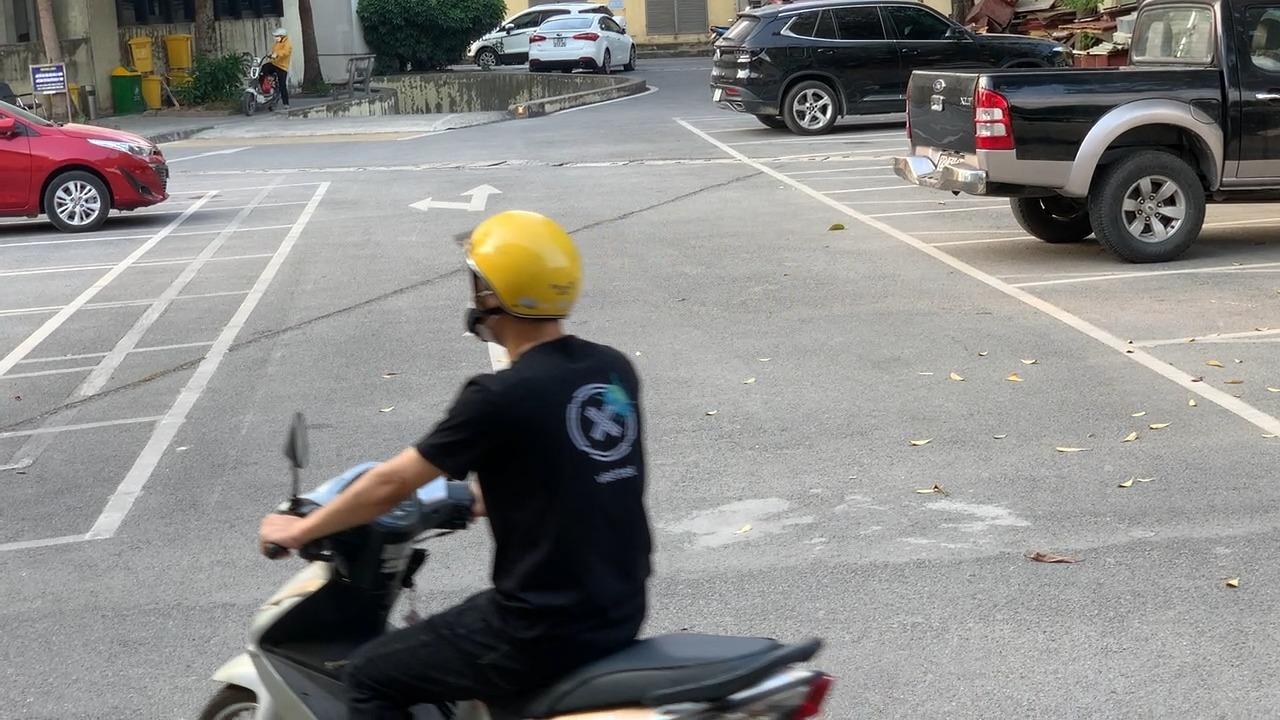helmet: (456, 209, 584, 322)
motorcyclist: (195, 208, 832, 720)
